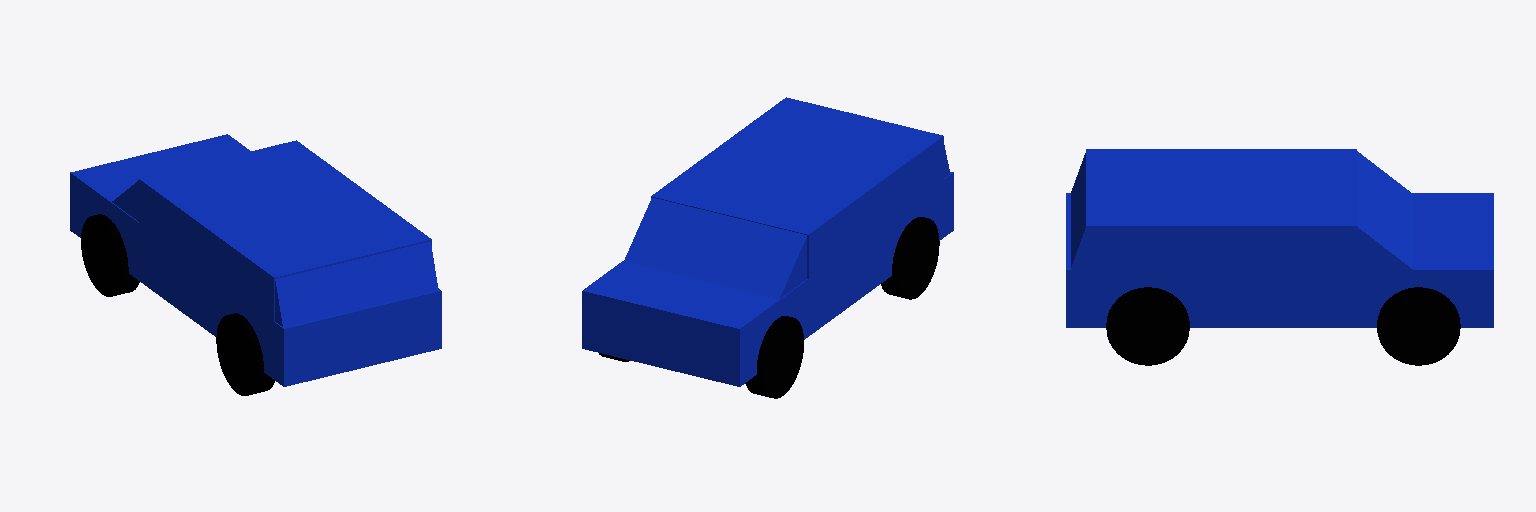
The model's file is car_01.obj.
3 views of the same model, side by side, from view 1: azimuth 30°, elevation 25°; view 2: azimuth 150°, elevation 25°; view 3: azimuth 270°, elevation 25° (orthographic).
Parts seen in each view (by area): view 1: car_body, fl_wheel, rl_wheel; view 2: car_body, fl_wheel, rl_wheel; view 3: car_body, rr_wheel, fr_wheel.
Part boxes in pixels (x1,y1,x2,y2): car_body: (70, 134, 441, 386); fl_wheel: (81, 214, 139, 296); rl_wheel: (216, 313, 274, 395); car_body: (582, 97, 953, 386); fl_wheel: (745, 316, 803, 398); rl_wheel: (881, 217, 939, 299); car_body: (1066, 149, 1493, 327); rr_wheel: (1106, 287, 1189, 365); fr_wheel: (1377, 287, 1460, 365).
Size of the model in its own units: 3.98 by 3.07 by 8.7.